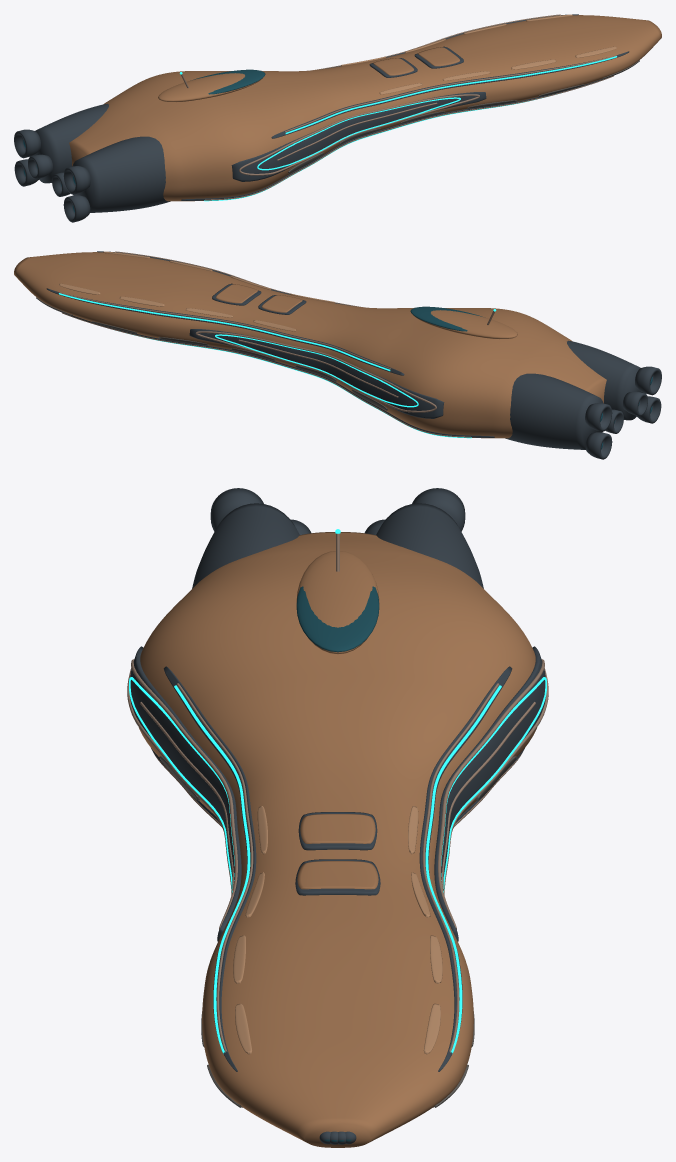
File: interceptor.glb
3 views of the same model, one above another, from view 1: azimuth 30°, elevation 25°; view 2: azimuth 150°, elevation 25°; view 3: azimuth 270°, elevation 25° (orthographic). The views are drawn at different scales.
Parts seen in each view (by area): view 1: Continuous pressure hull, Aft propulsion / integrated nacelle, Swallow flank equipment bay / contoured housing, Aft propulsion / integrated nacelle.001, Bridge / armored tier, Upper data conduit / seated channel, Swallow flank equipment bay / bronze bezel, Lower data conduit / seated channel, Swallow flank equipment bay / cyan inset, Upper data conduit / cyan inset, Lower data conduit / bronze lip, Upper data conduit / bronze lip (+10 smaller); view 2: Continuous pressure hull, Aft propulsion / integrated nacelle.001, Swallow flank equipment bay / contoured housing.001, Aft propulsion / integrated nacelle, Bridge / armored tier, Upper data conduit / seated channel.001, Swallow flank equipment bay / bronze bezel.001, Lower data conduit / seated channel.001, Swallow flank equipment bay / cyan inset.001, Upper data conduit / cyan inset.001, Lower data conduit / bronze lip.001, Upper data conduit / bronze lip.001 (+10 smaller); view 3: Continuous pressure hull, Swallow flank equipment bay / contoured housing.001, Swallow flank equipment bay / contoured housing, Bridge / armored tier, Aft propulsion / integrated nacelle, Aft propulsion / integrated nacelle.001, Bridge / glazing, Upper data conduit / seated channel.001, Upper data conduit / seated channel, Interceptor / flush hatch / shutter.001, Interceptor / flush hatch / shutter, Swallow flank equipment bay / bronze bezel (+9 smaller).
Boxes of the visible parts, x1,y1,x2,y2 form: Continuous pressure hull: [69, 15, 661, 201]; Aft propulsion / integrated nacelle: [72, 136, 170, 212]; Swallow flank equipment bay / contoured housing: [231, 92, 486, 181]; Aft propulsion / integrated nacelle.001: [31, 103, 108, 183]; Bridge / armored tier: [158, 73, 262, 102]; Upper data conduit / seated channel: [271, 51, 629, 138]; Swallow flank equipment bay / bronze bezel: [239, 94, 479, 175]; Lower data conduit / seated channel: [181, 78, 606, 200]; Swallow flank equipment bay / cyan inset: [257, 97, 460, 170]; Upper data conduit / cyan inset: [285, 56, 616, 134]; Lower data conduit / bronze lip: [205, 75, 613, 200]; Upper data conduit / bronze lip: [285, 55, 616, 132]; Continuous pressure hull: [14, 252, 606, 438]; Aft propulsion / integrated nacelle.001: [505, 373, 603, 449]; Swallow flank equipment bay / contoured housing.001: [189, 329, 444, 418]; Aft propulsion / integrated nacelle: [567, 340, 644, 420]; Bridge / armored tier: [413, 310, 517, 339]; Upper data conduit / seated channel.001: [46, 288, 404, 375]; Swallow flank equipment bay / bronze bezel.001: [196, 331, 436, 412]; Lower data conduit / seated channel.001: [69, 315, 494, 437]; Swallow flank equipment bay / cyan inset.001: [215, 334, 418, 407]; Upper data conduit / cyan inset.001: [59, 293, 390, 371]; Lower data conduit / bronze lip.001: [62, 312, 470, 437]; Upper data conduit / bronze lip.001: [59, 292, 390, 369]; Continuous pressure hull: [138, 532, 537, 1147]; Swallow flank equipment bay / contoured housing.001: [434, 646, 545, 941]; Swallow flank equipment bay / contoured housing: [130, 646, 241, 941]; Bridge / armored tier: [296, 551, 379, 654]; Aft propulsion / integrated nacelle: [192, 503, 299, 588]; Aft propulsion / integrated nacelle.001: [376, 503, 483, 588]; Bridge / glazing: [296, 586, 379, 652]; Upper data conduit / seated channel.001: [419, 666, 512, 1071]; Upper data conduit / seated channel: [163, 666, 256, 1071]; Interceptor / flush hatch / shutter.001: [297, 861, 378, 889]; Interceptor / flush hatch / shutter: [300, 814, 375, 843]; Swallow flank equipment bay / bronze bezel: [127, 659, 237, 929].
Bounding box in the file's own units: 480 × 82.6 × 143.
